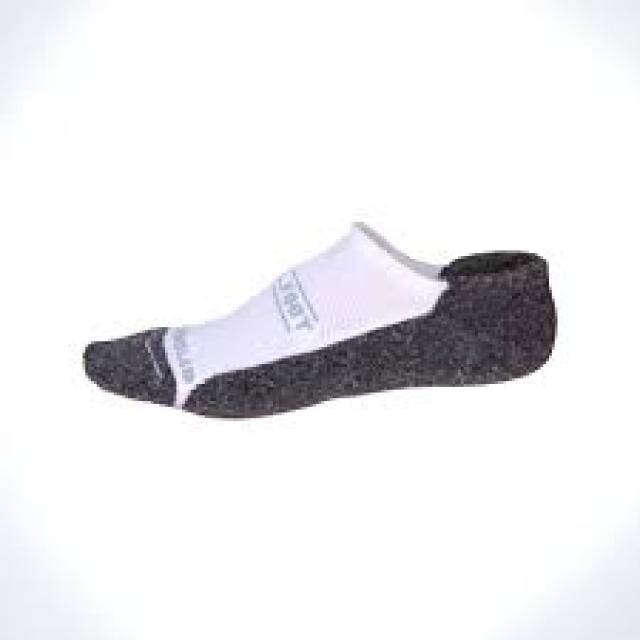sock: (80, 219, 554, 418)
